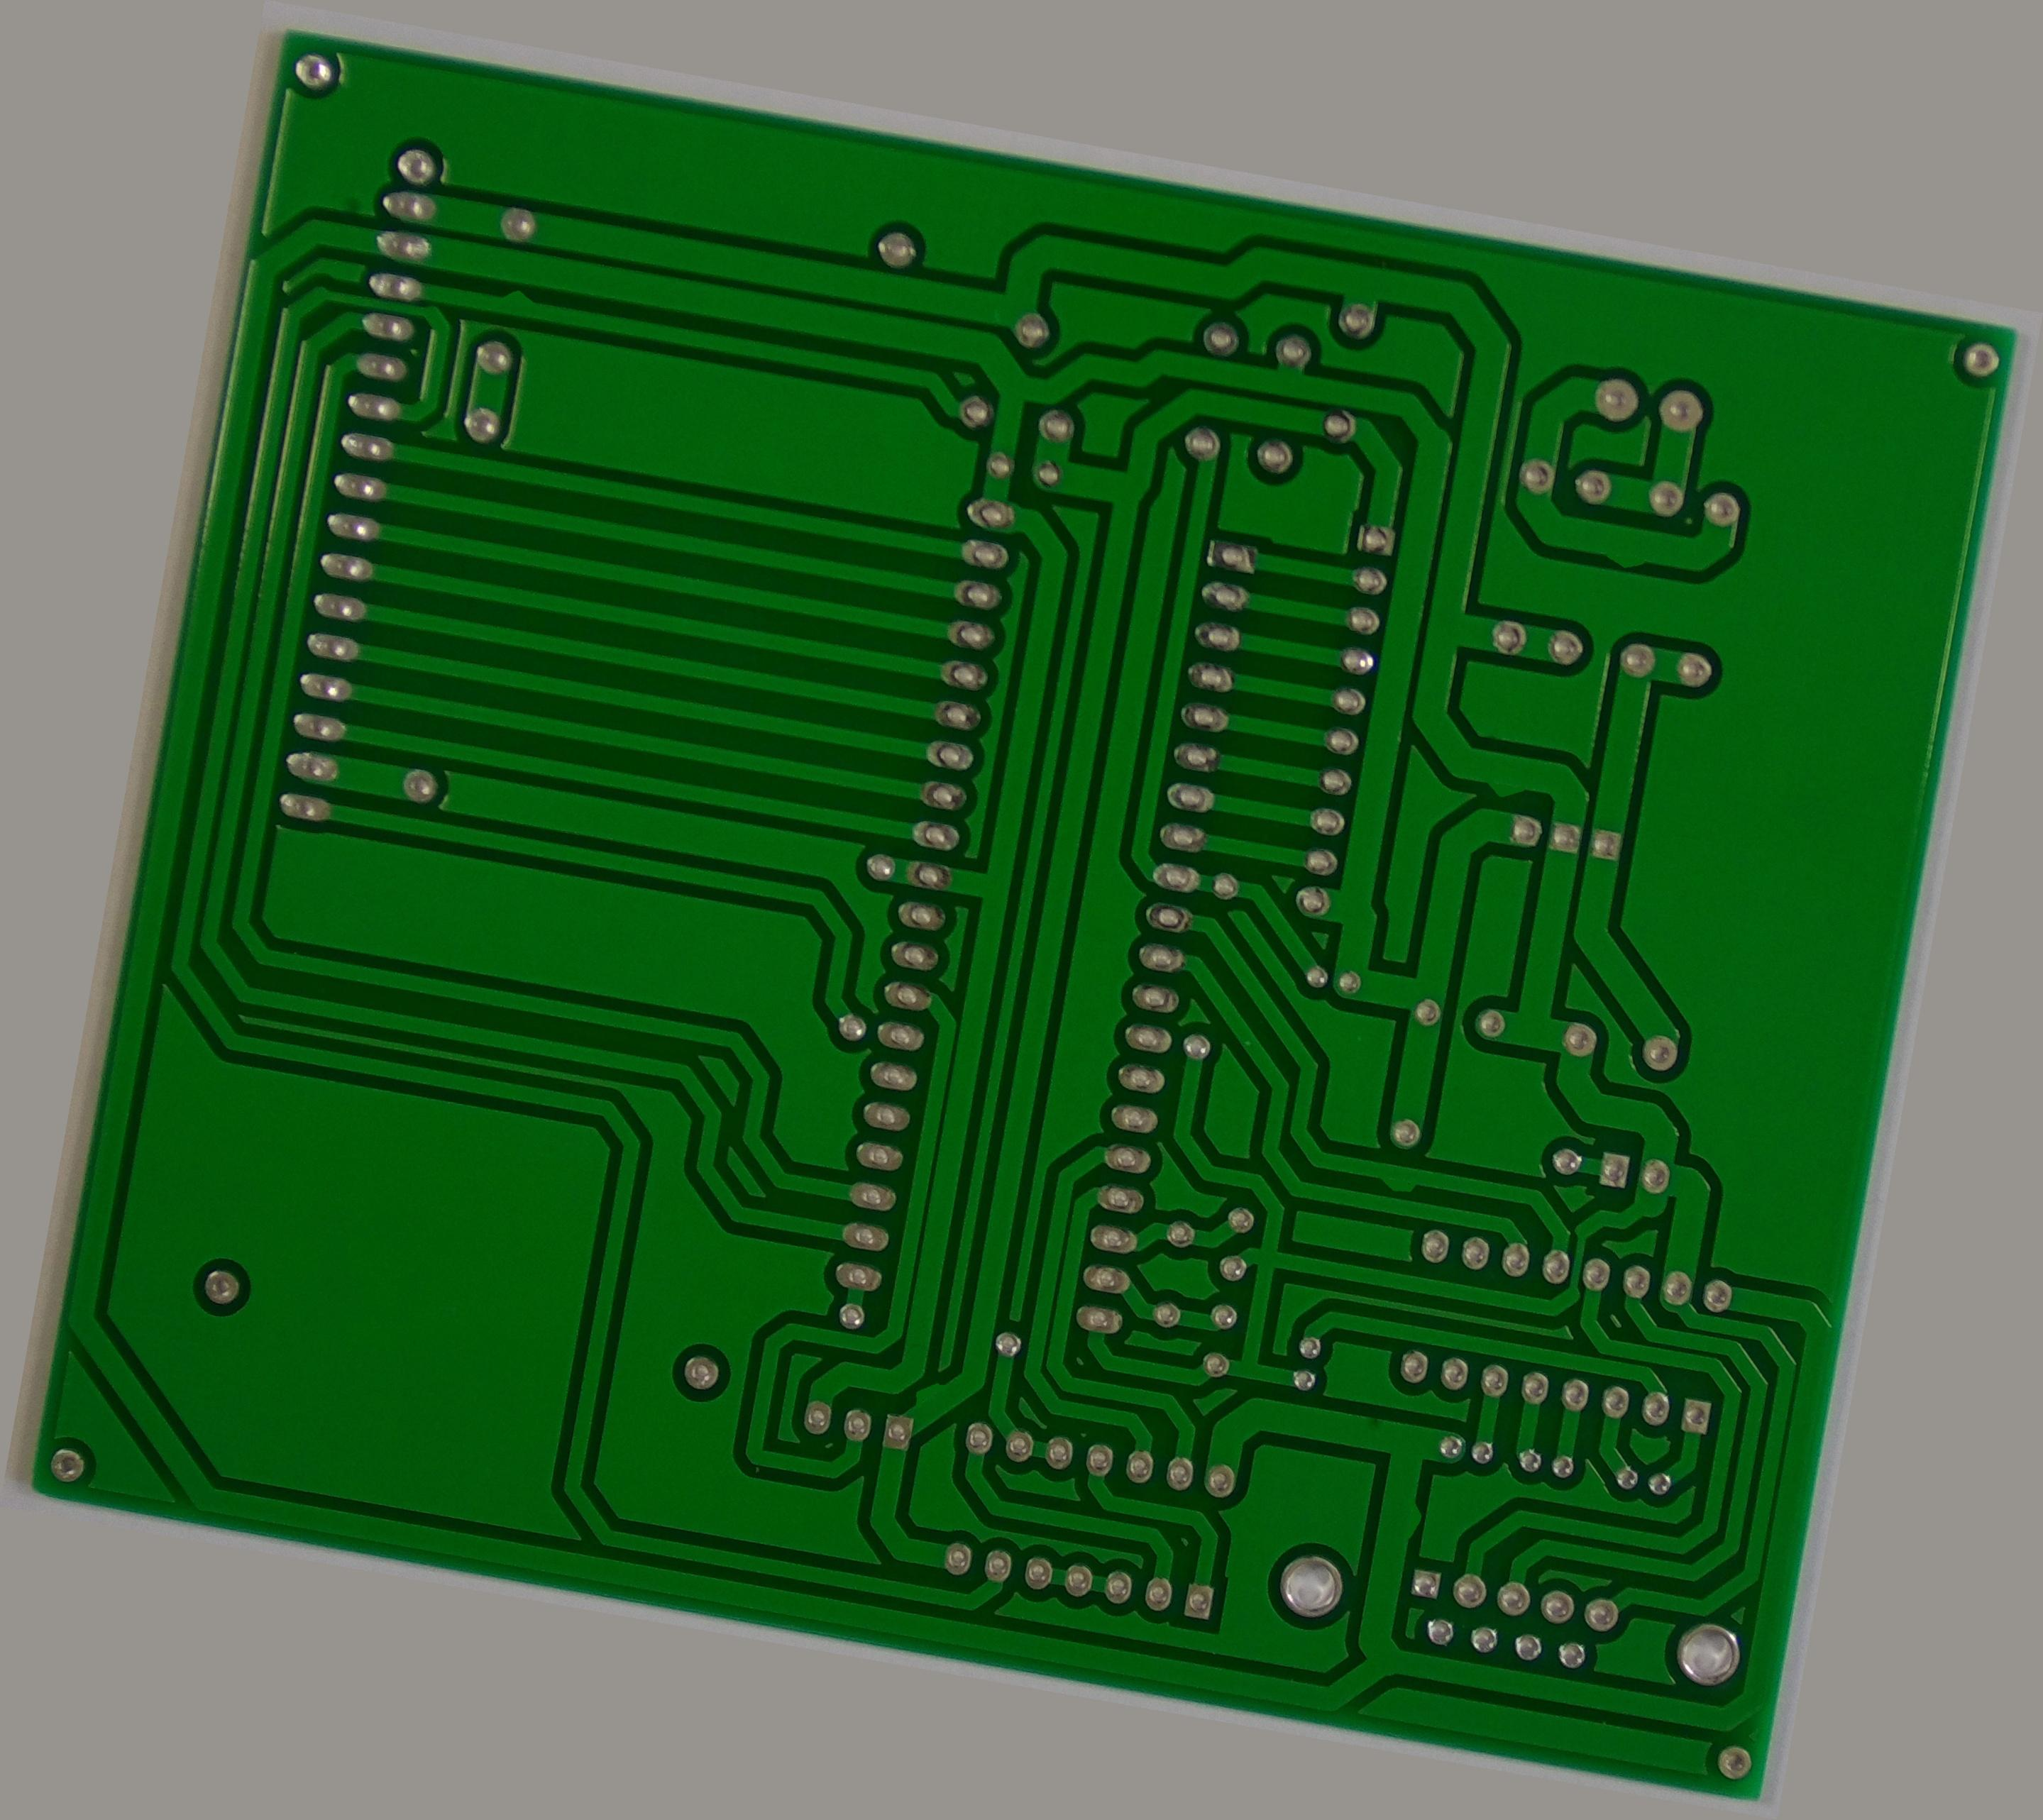spur: (1502, 638, 1577, 692), (300, 278, 376, 320), (982, 1474, 1047, 1518), (1467, 1126, 1530, 1170), (1599, 351, 1658, 394)
